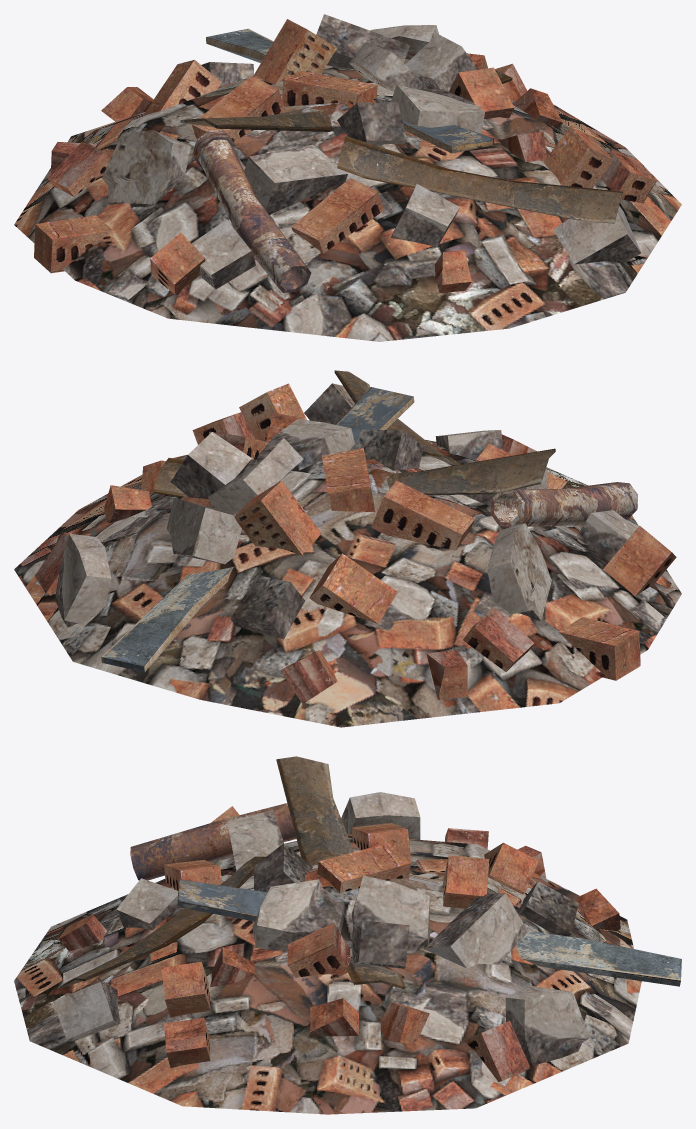
File: Debris2_2.fbx
3 renders of one model, top to bottom at view 1: azimuth 30°, elevation 25°; view 2: azimuth 150°, elevation 25°; view 3: azimuth 270°, elevation 25°, orthographic. The views are drawn at different scales.
Parts seen in each view (by area): view 1: polySurface298; view 2: polySurface298; view 3: polySurface298.
Boxes of the visible parts, x1,y1,x2,y2 form: polySurface298: (14, 14, 681, 341); polySurface298: (14, 370, 681, 727); polySurface298: (14, 756, 681, 1114).
Bounding box in the file's own units: 2.77 × 0.7877 × 2.89.
